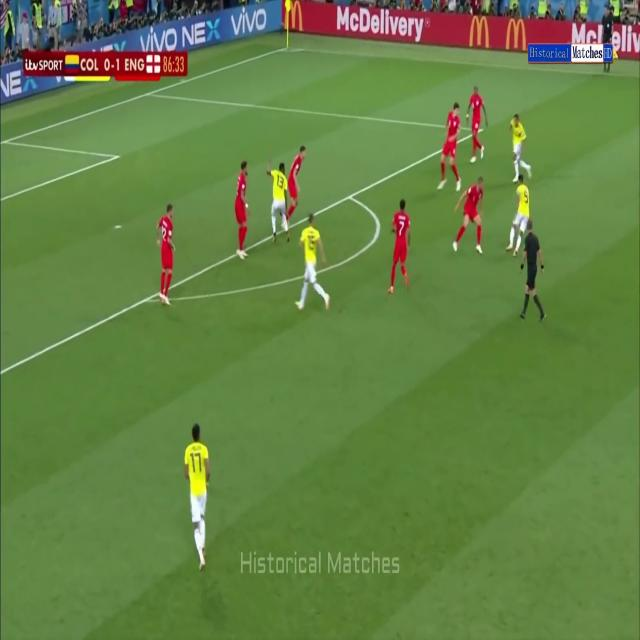TEAM 1: (452, 178, 486, 256), (156, 202, 177, 308), (388, 202, 412, 294), (233, 162, 252, 262), (440, 104, 462, 190), (469, 88, 488, 166), (290, 142, 304, 220)
TEAM 2: (183, 421, 212, 569), (294, 218, 334, 312), (268, 152, 292, 252), (506, 176, 532, 256), (509, 113, 530, 179)
